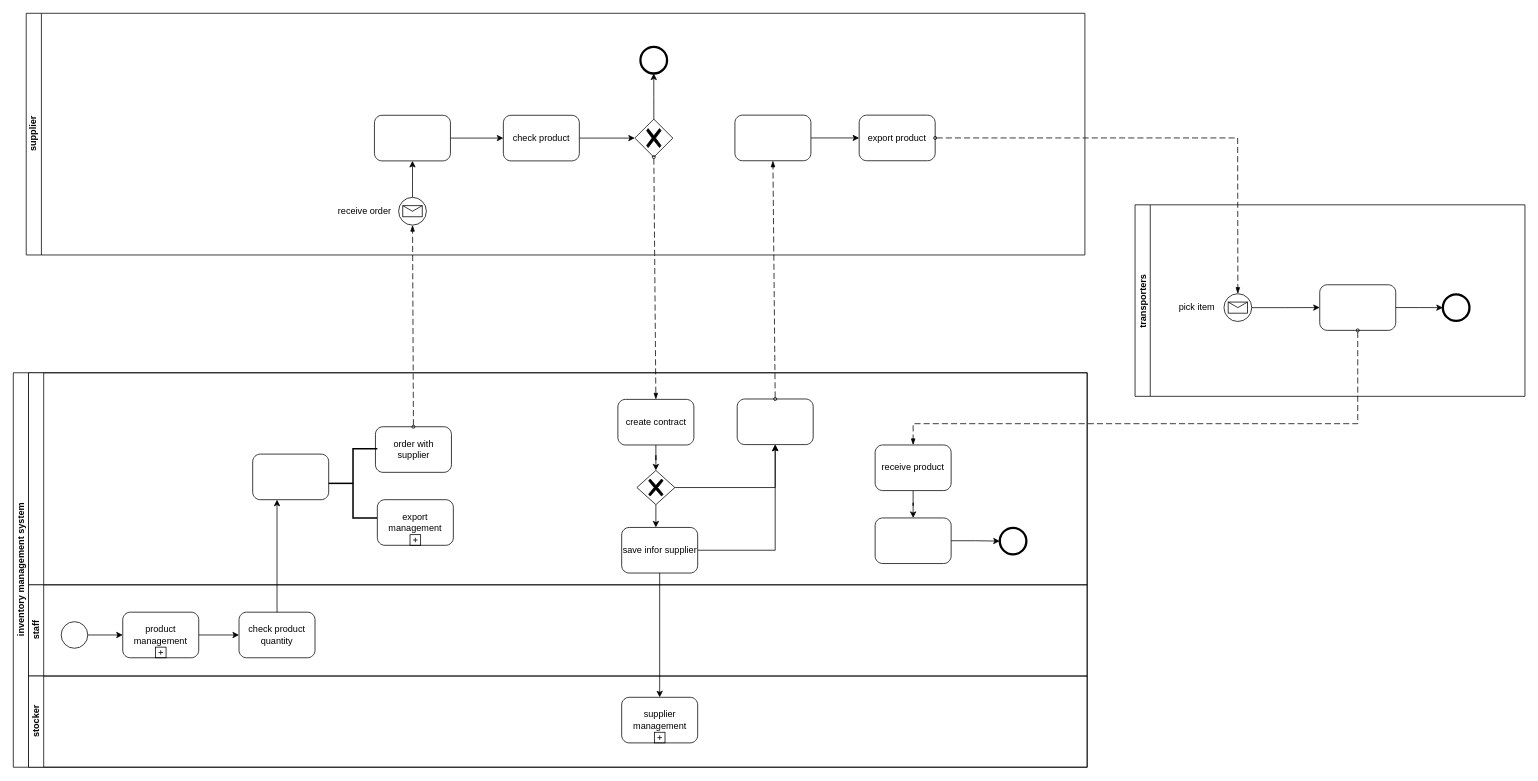
Image size: 1538x781. Some labels were removed from this diagram. The box of each missing label's shape, as (x1, y1, x2, y2) in pixels:
adjust product quantity: (252, 453, 329, 500)
coordinator: (28, 372, 1087, 585)
create bill: (736, 398, 813, 445)
create import: (874, 517, 951, 564)
deliver item: (1319, 284, 1396, 330)
order confirmation: (374, 115, 450, 161)
payment confirmation: (734, 114, 811, 161)
